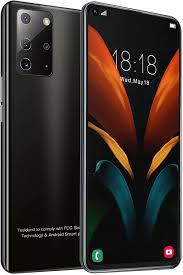Smartphone: (84, 23, 179, 268), (5, 2, 82, 275)
